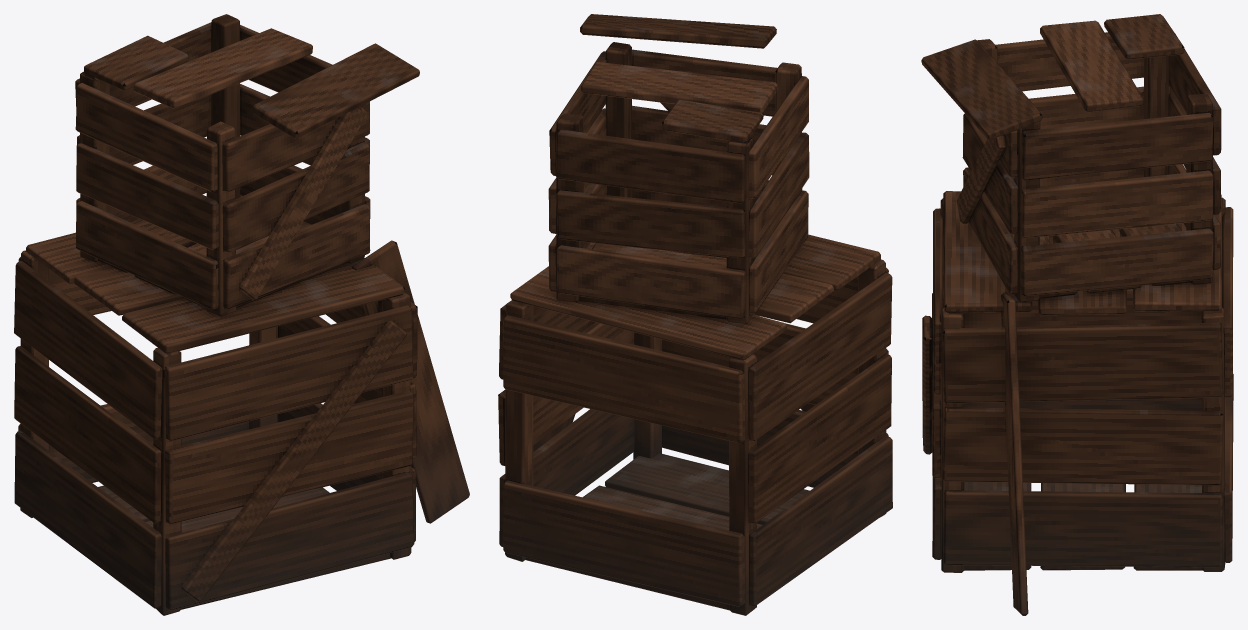
Rendered from crates.glb.
The picture shows the model from 3 angles, left to right: view 1: azimuth 30°, elevation 25°; view 2: azimuth 150°, elevation 25°; view 3: azimuth 270°, elevation 25°; orthographic projection. The views are drawn at different scales.
Visible parts, largest first — view 1: Crates; view 2: Crates; view 3: Crates.
Part boxes in pixels (x1,y1,x2,y2): Crates: (14, 14, 469, 615); Crates: (498, 14, 892, 615); Crates: (921, 14, 1233, 615).
Size of the model in its own units: 0.8869 by 1.15 by 0.6831.
1 material, 1 textured.
